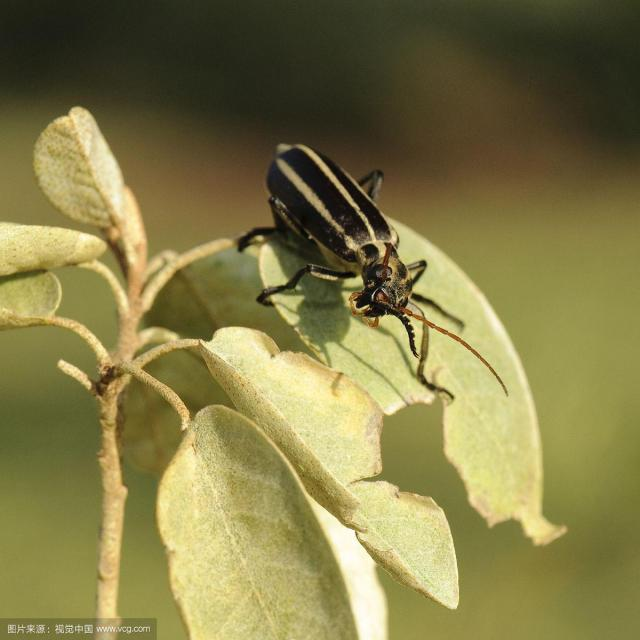BlisterBeetle-Adult-: (228, 130, 513, 406)
